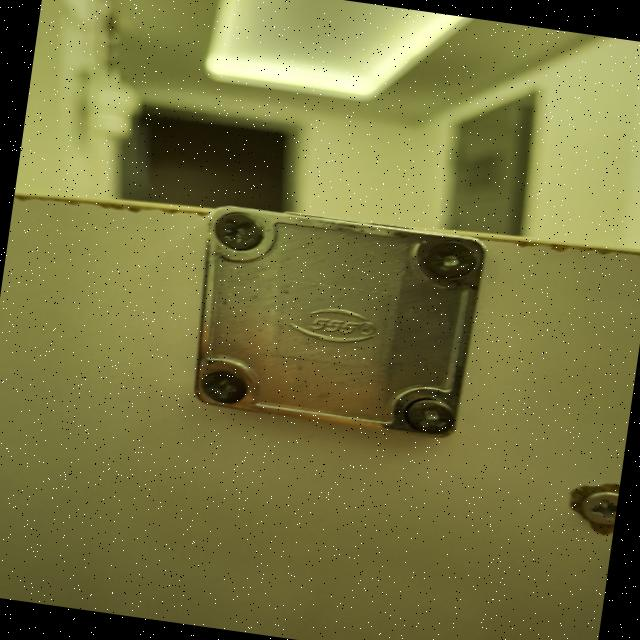Pozidriv: (212, 210, 269, 260), (420, 238, 480, 282), (407, 401, 451, 436), (202, 372, 246, 406)
